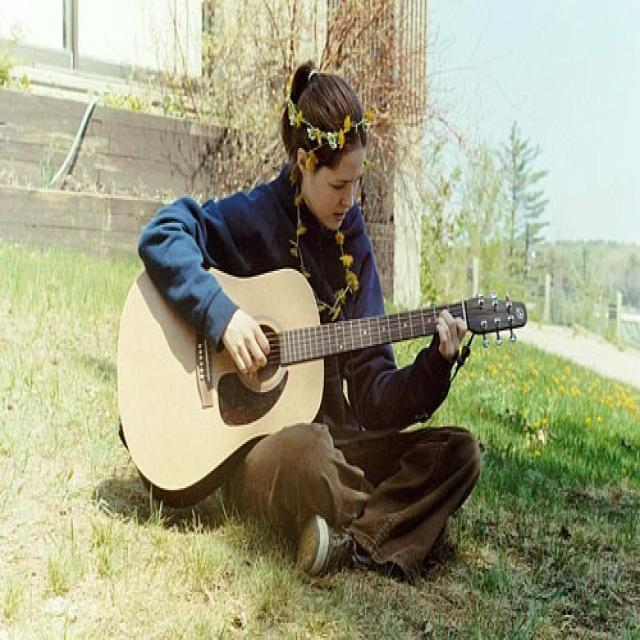guitar: (119, 265, 526, 511)
